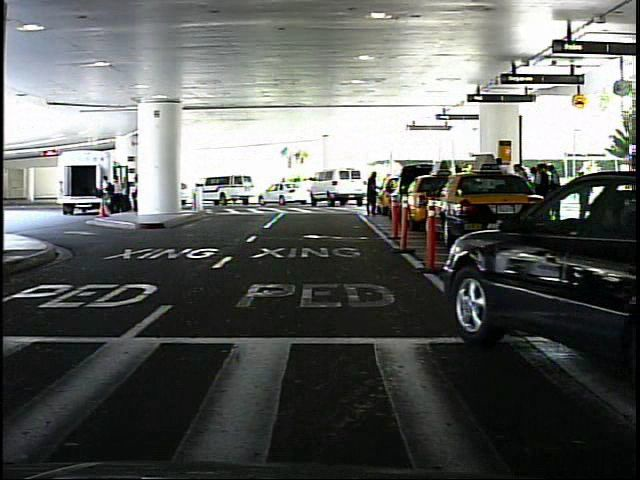person: (362, 164, 386, 220), (574, 166, 594, 223)
